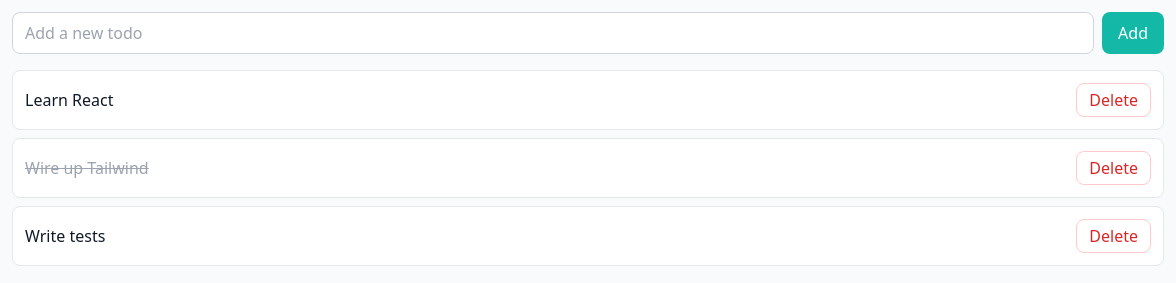
TodoList implementation tests › shows empty-state message after deleting all todos
Click the button with aria-label "delete-" at x=1114, y=100, box [1076, 83, 1151, 117]
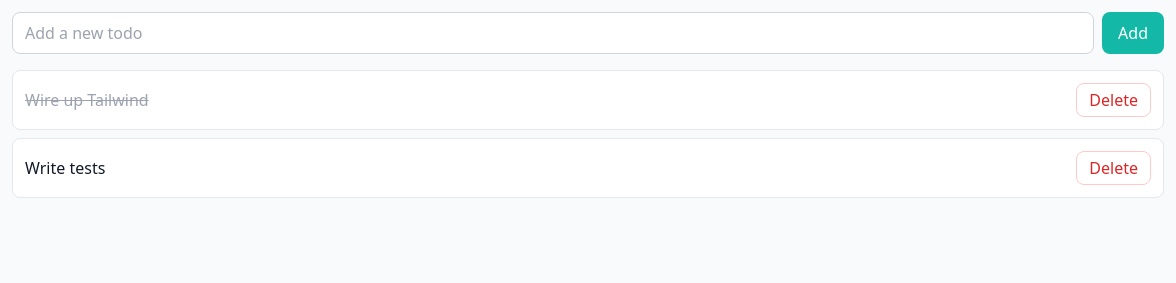
Click the button with aria-label "delete-" at x=1114, y=100, box [1076, 83, 1151, 117]
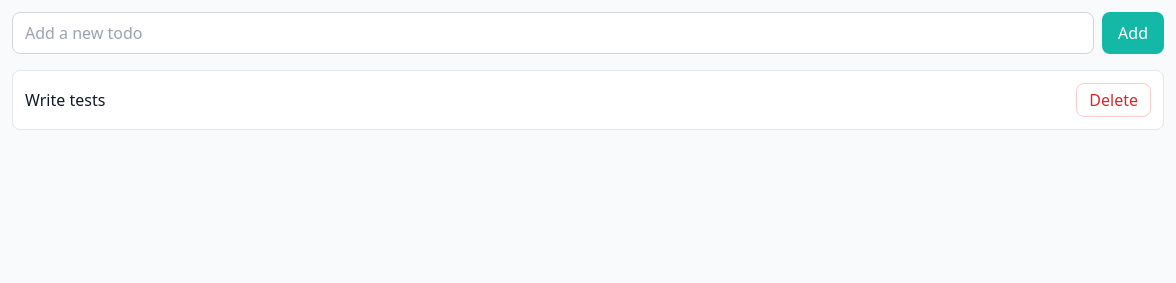
Click the button with aria-label "delete-" at x=1114, y=100, box [1076, 83, 1151, 117]
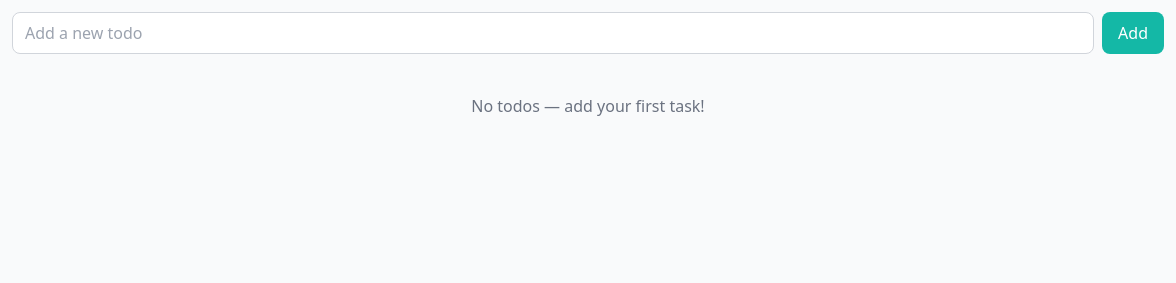
Check: the list "todo-list" is gone
Check: the message named "empty-message" shows "No todos", box [471, 95, 705, 117]
